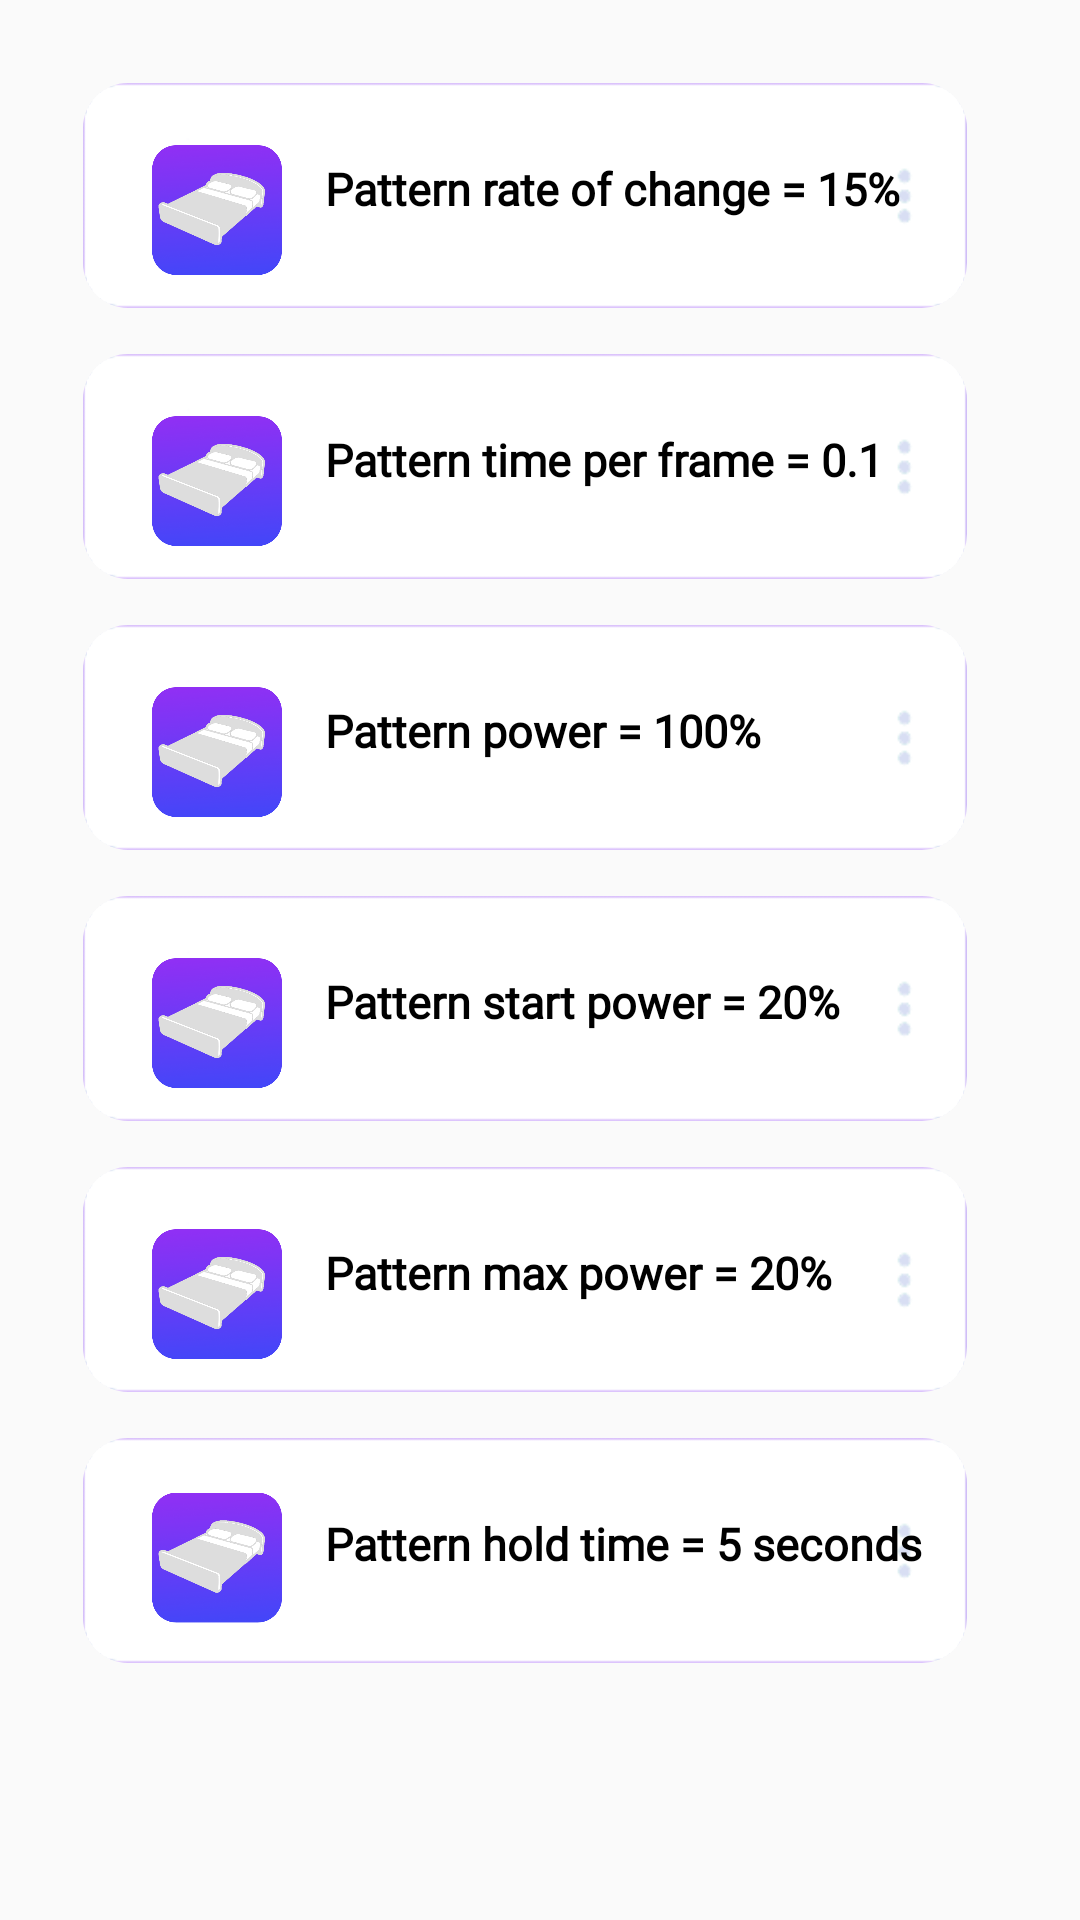

Where to tap for icons on this 1080×1920 app screen, as [x,y]:
cardicon: [217,210], [217,481], [217,752], [217,1023], [217,1294], [217,1558]
